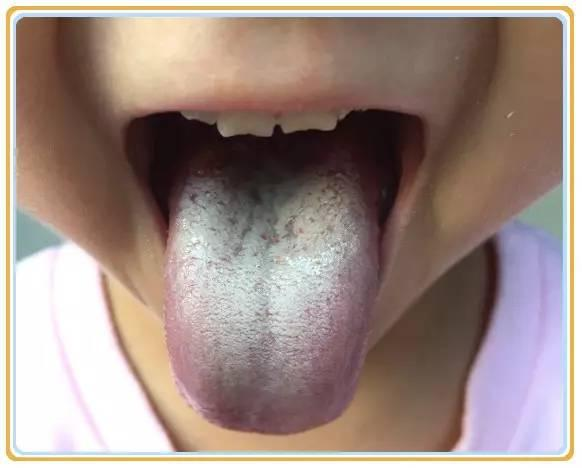baitaishe: (165, 139, 378, 435)
